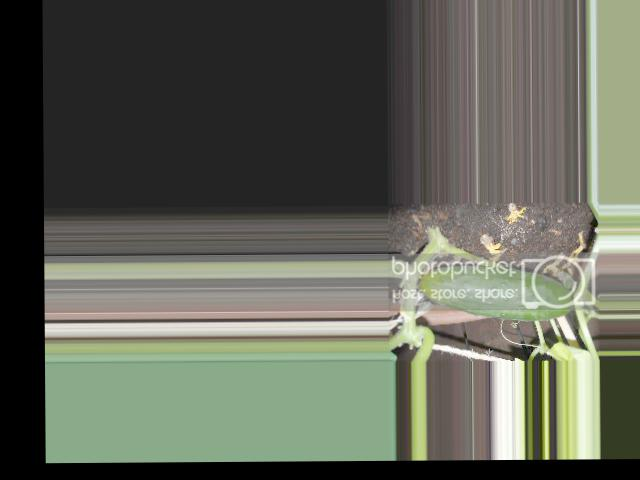cucumber: (420, 263, 572, 321)
